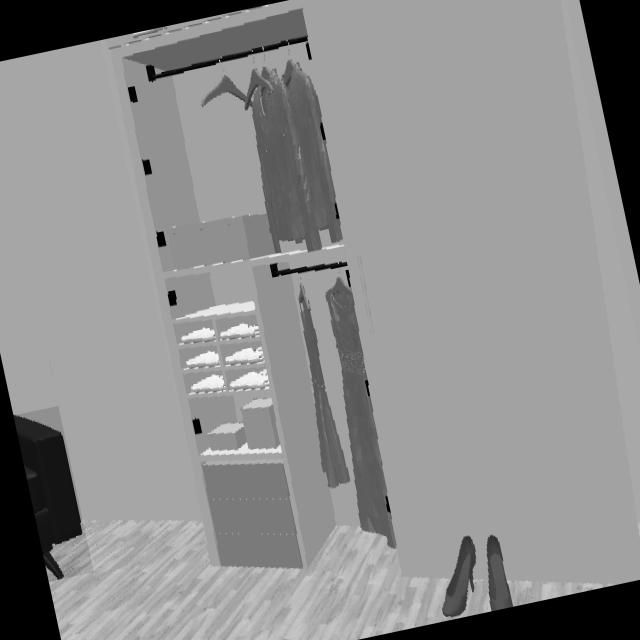sofa: (13, 415, 84, 579)
wardrobe: (107, 0, 640, 585)
